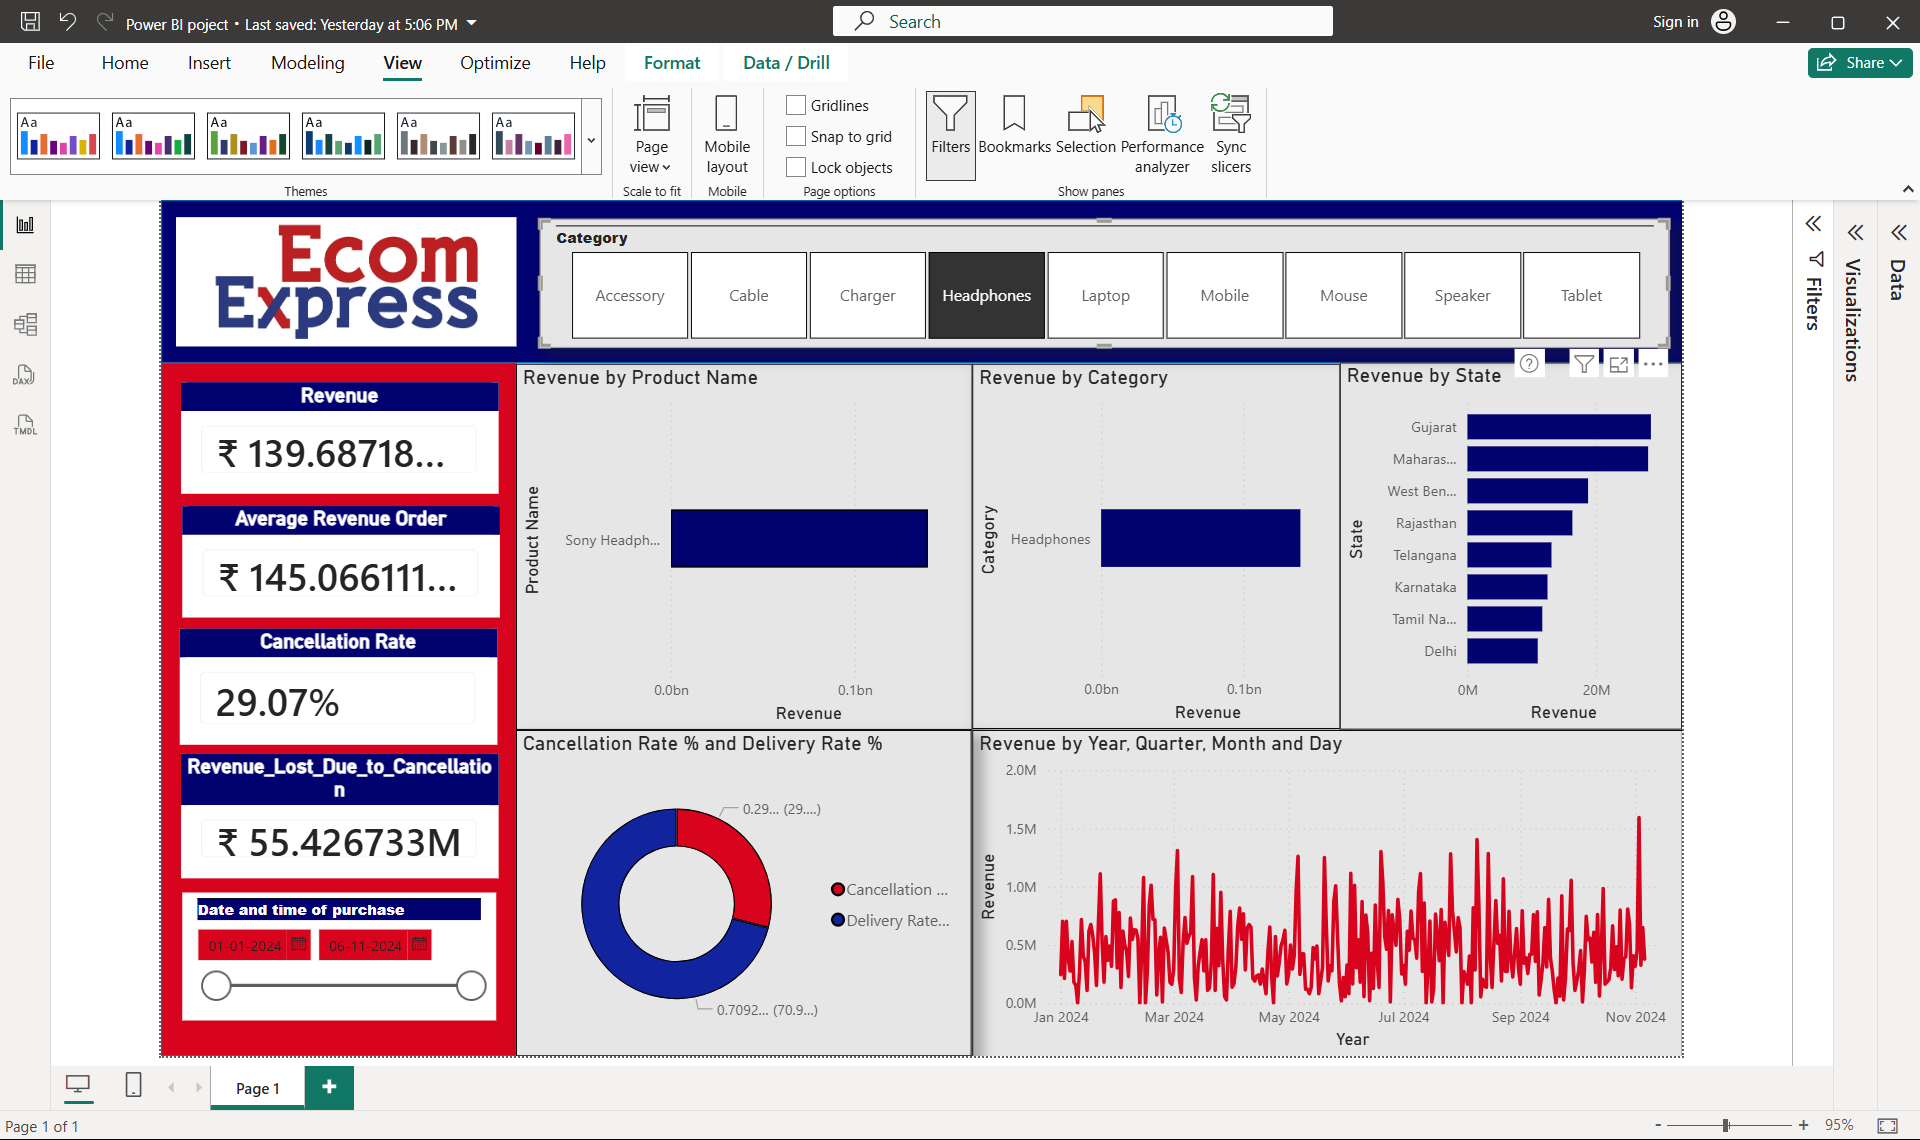

The dashboard page shown, as its layout file describes it:
{"tool":"powerbi","page":{"name":"Page 1","canvas":[1280,720],"ordinal":0},"visuals":[{"type":"shape","box":[0,0,1280.3,137.2],"z":0},{"type":"shape","box":[0,136.9,299,583.6],"z":1000},{"type":"image","box":[12.3,0,286.8,137.2],"z":2000},{"type":"barChart","fields":{"Y":["table.Revenue"],"Category":["Products.Product Name"]},"box":[298.6,137.7,383.8,308.1],"z":3000},{"type":"barChart","fields":{"Category":["Products.Category"],"Y":["table.Revenue"]},"box":[682,138.1,309.8,307.4],"z":4000},{"type":"lineChart","fields":{"Category":["Orders.Date and time of purchase.Variation.Date Hierarchy.Year","Orders.Date and time of purchase.Variation.Date Hierarchy.Quarter","Orders.Date and time of purchase.Variation.Date Hierarchy.Month","Orders.Date and time of purchase.Variation.Date Hierarchy.Day"],"Y":["table.Revenue"]},"box":[682,445.5,598,275],"z":5000},{"type":"barChart","fields":{"Category":["Customers.State"],"Y":["table.Revenue"]},"box":[991.8,136.9,288.2,308.6],"z":6000},{"type":"slicer","fields":{"Values":["Products.Category"]},"box":[318.6,15.4,950.2,109],"z":7000},{"type":"cardVisual","title":"Revenue","fields":{"Data":["table.Revenue"]},"box":[16.8,153.7,266.9,93.6],"z":8000},{"type":"cardVisual","title":"Average Revenue Order","fields":{"Data":["table.AverageRevenueOrder"]},"box":[18.2,257.1,266.9,93.6],"z":9000},{"type":"cardVisual","title":"Cancellation Rate","fields":{"Data":["table.Cancellation Rate"]},"box":[15.4,360.5,266.9,97.8],"z":10000},{"type":"cardVisual","title":"Revenue_Lost_Due_to_Cancellation","fields":{"Data":["table.Revenue_Lost"]},"box":[16.8,465.3,266.9,104.8],"z":11000},{"type":"slicer","fields":{"Values":["Orders.Date and time of purchase"]},"box":[18.2,582.7,264.1,107.6],"z":12000},{"type":"donutChart","fields":{"Y":["table.Cancellation Rate","table.Delivery Rate %"]},"box":[299,446,383,274],"z":13000}]}

Visuals, with their boxes on the page's 1280x720 design canvas (x1, y1, x2, y2). These are canvas units, not pixel positions in the 1920x1140 screenshot, which may show the page scaled, cropped or inside an application window:
shape: l=0, t=0, r=1280, b=137
shape: l=0, t=137, r=299, b=720
image: l=12, t=0, r=299, b=137
barChart - table.Revenue x Products.Product Name: l=299, t=138, r=682, b=446
barChart - Products.Category x table.Revenue: l=682, t=138, r=992, b=446
lineChart - Orders.Date and time of purchase.Variation.Date Hierarchy.Year x Orders.Date and time of purchase.Variation.Date Hierarchy.Quarter: l=682, t=446, r=1280, b=720
barChart - Customers.State x table.Revenue: l=992, t=137, r=1280, b=446
slicer - Products.Category: l=319, t=15, r=1269, b=124
"Revenue" cardVisual: l=17, t=154, r=284, b=247
"Average Revenue Order" cardVisual: l=18, t=257, r=285, b=351
"Cancellation Rate" cardVisual: l=15, t=360, r=282, b=458
"Revenue_Lost_Due_to_Cancellation" cardVisual: l=17, t=465, r=284, b=570
slicer - Orders.Date and time of purchase: l=18, t=583, r=282, b=690
donutChart - table.Cancellation Rate x table.Delivery Rate %: l=299, t=446, r=682, b=720
